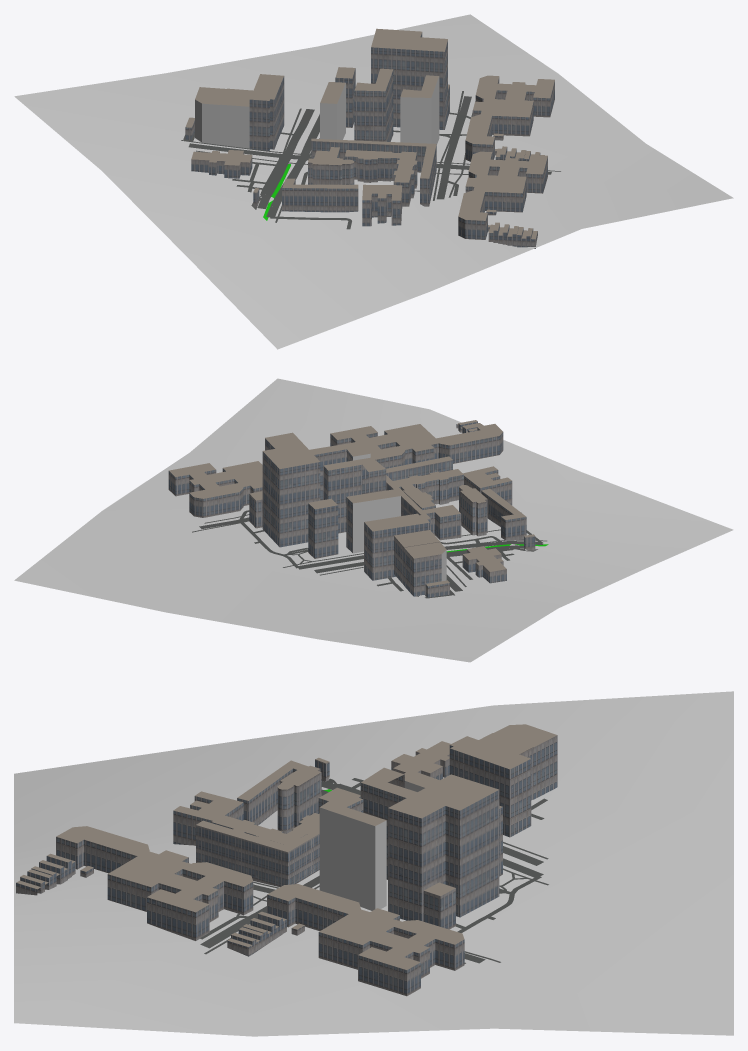
The model's file is City.fbx.
The picture shows the model from 3 angles, top to bottom: view 1: azimuth 30°, elevation 25°; view 2: azimuth 150°, elevation 25°; view 3: azimuth 270°, elevation 25°; orthographic projection. The views are drawn at different scales.
Parts seen in each view (by area): view 1: Terrain, map_4.osm_buildings.001, map_4.osm_buildings, map_4.osm_roads_primary, map_4.osm_paths_footway, map_4.osm_roads_service, map_4.osm_roads_secondary; view 2: Terrain, map_4.osm_buildings.001, map_4.osm_buildings, map_4.osm_roads_primary, map_4.osm_roads_service, map_4.osm_paths_footway; view 3: Terrain, map_4.osm_buildings.001, map_4.osm_buildings, map_4.osm_roads_primary, map_4.osm_roads_service, map_4.osm_paths_footway.
Part boxes in pixels (<box>): Terrain: <box>14,14,733,349</box>; map_4.osm_buildings.001: <box>185,32,554,248</box>; map_4.osm_buildings: <box>185,28,554,239</box>; map_4.osm_roads_primary: <box>188,109,551,217</box>; map_4.osm_paths_footway: <box>181,91,560,222</box>; map_4.osm_roads_service: <box>232,112,470,229</box>; map_4.osm_roads_secondary: <box>436,96,471,199</box>; Terrain: <box>14,378,733,662</box>; map_4.osm_buildings.001: <box>168,422,535,597</box>; map_4.osm_buildings: <box>169,420,534,586</box>; map_4.osm_roads_primary: <box>297,541,542,591</box>; map_4.osm_roads_service: <box>239,510,543,591</box>; map_4.osm_paths_footway: <box>192,514,546,596</box>; Terrain: <box>14,691,733,1036</box>; map_4.osm_buildings.001: <box>16,735,557,996</box>; map_4.osm_buildings: <box>16,724,557,969</box>; map_4.osm_roads_primary: <box>200,781,543,948</box>; map_4.osm_roads_service: <box>200,778,547,939</box>; map_4.osm_paths_footway: <box>204,778,548,963</box>.
Bounding box in the file's own units: 54948 × 14181 × 54963.
